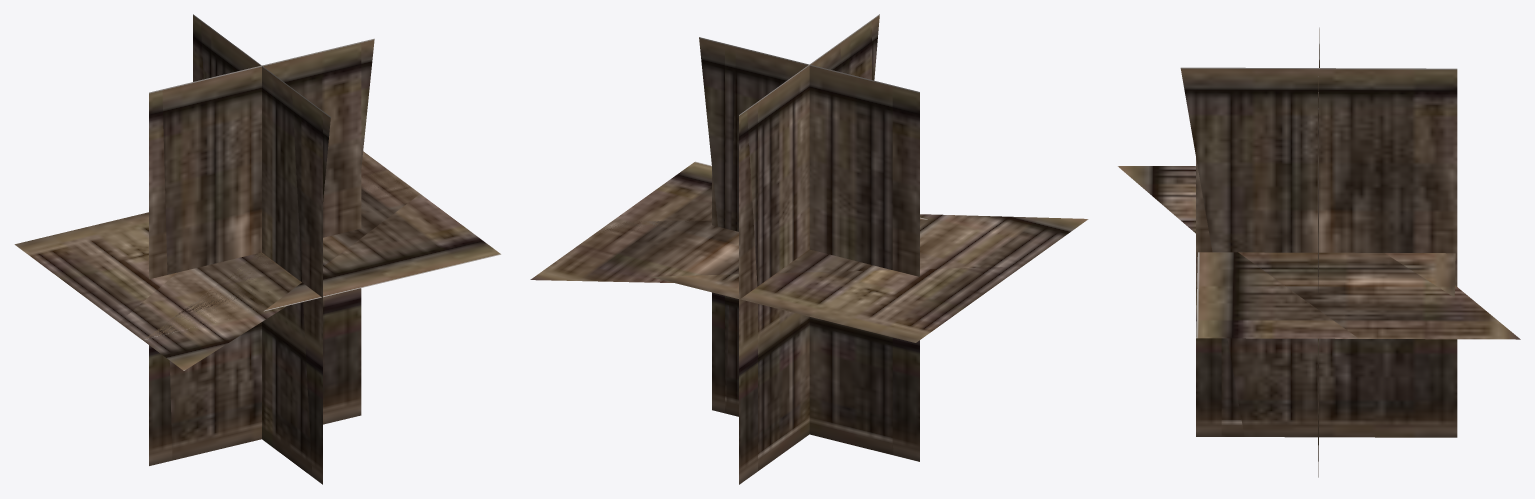
Rendered from BBBox01.obj.
3 renders of one model, left to right at view 1: azimuth 30°, elevation 25°; view 2: azimuth 150°, elevation 25°; view 3: azimuth 270°, elevation 25°, orthographic.
Parts seen in each view (by area): view 1: 0, 5, 7, 4, 3, 6, 9, 2, 12; view 2: 1, 5, 7, 3, 9, 2, 4, 6, 10, 0, 12; view 3: 2, 7, 4, 6, 3, 8, 12.
Boxes of the visible parts, left/top/right/bottom form: 0: left=162, top=42, right=361, bottom=460; 5: left=211, top=28, right=312, bottom=476; 7: left=119, top=151, right=419, bottom=370; 4: left=144, top=164, right=501, bottom=339; 3: left=14, top=212, right=176, bottom=322; 6: left=200, top=20, right=322, bottom=484; 9: left=149, top=38, right=374, bottom=465; 2: left=193, top=14, right=330, bottom=201; 12: left=186, top=306, right=286, bottom=369; 1: left=726, top=46, right=892, bottom=454; 5: left=758, top=43, right=841, bottom=470; 7: left=530, top=219, right=1088, bottom=279; 3: left=649, top=266, right=1021, bottom=342; 9: left=699, top=37, right=919, bottom=461; 2: left=739, top=14, right=879, bottom=484; 4: left=594, top=161, right=927, bottom=234; 6: left=747, top=20, right=871, bottom=286; 10: left=725, top=43, right=893, bottom=455; 0: left=712, top=168, right=724, bottom=413; 12: left=536, top=214, right=1083, bottom=282; 2: left=1180, top=67, right=1457, bottom=437; 7: left=1118, top=166, right=1520, bottom=339; 4: left=1196, top=252, right=1358, bottom=338; 6: left=1196, top=67, right=1335, bottom=436; 3: left=1385, top=253, right=1455, bottom=297; 8: left=1221, top=338, right=1244, bottom=436; 12: left=1119, top=167, right=1519, bottom=338.
Size of the model in its own units: 40.35 by 40 by 39.65.
